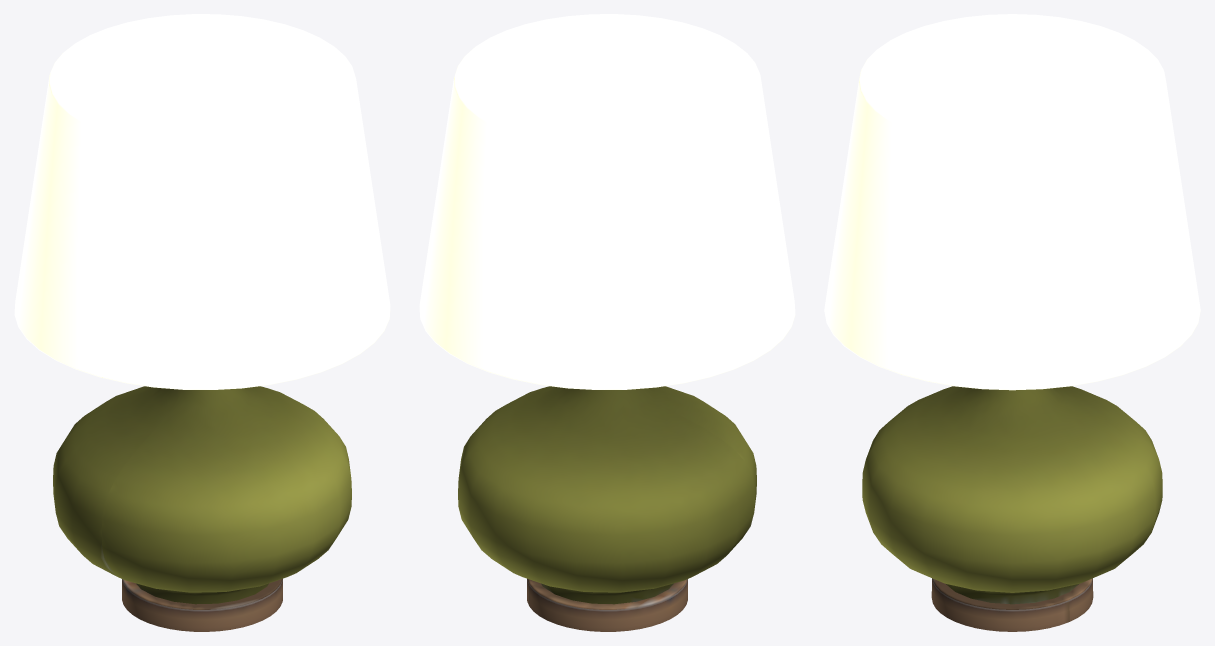
The model's file is EE_Table_Lamp_01.gltf.
3 views of the same model, side by side, from view 1: azimuth 30°, elevation 25°; view 2: azimuth 150°, elevation 25°; view 3: azimuth 270°, elevation 25° (orthographic).
Visible parts, largest first — view 1: EE_Table_Lamp_01.001; view 2: EE_Table_Lamp_01.001; view 3: EE_Table_Lamp_01.001.
Part boxes in pixels (x1,y1,x2,y2): EE_Table_Lamp_01.001: (14, 14, 390, 631); EE_Table_Lamp_01.001: (419, 14, 795, 631); EE_Table_Lamp_01.001: (824, 14, 1200, 631).
Size of what is drawn, in the model's own units: 0.3947 by 0.6017 by 0.3947.
2 materials, 1 textured.
